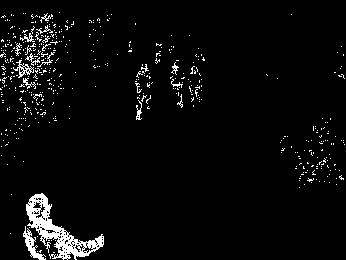person: (21, 193, 104, 260), (132, 61, 153, 120), (168, 58, 186, 110), (186, 60, 204, 104)
